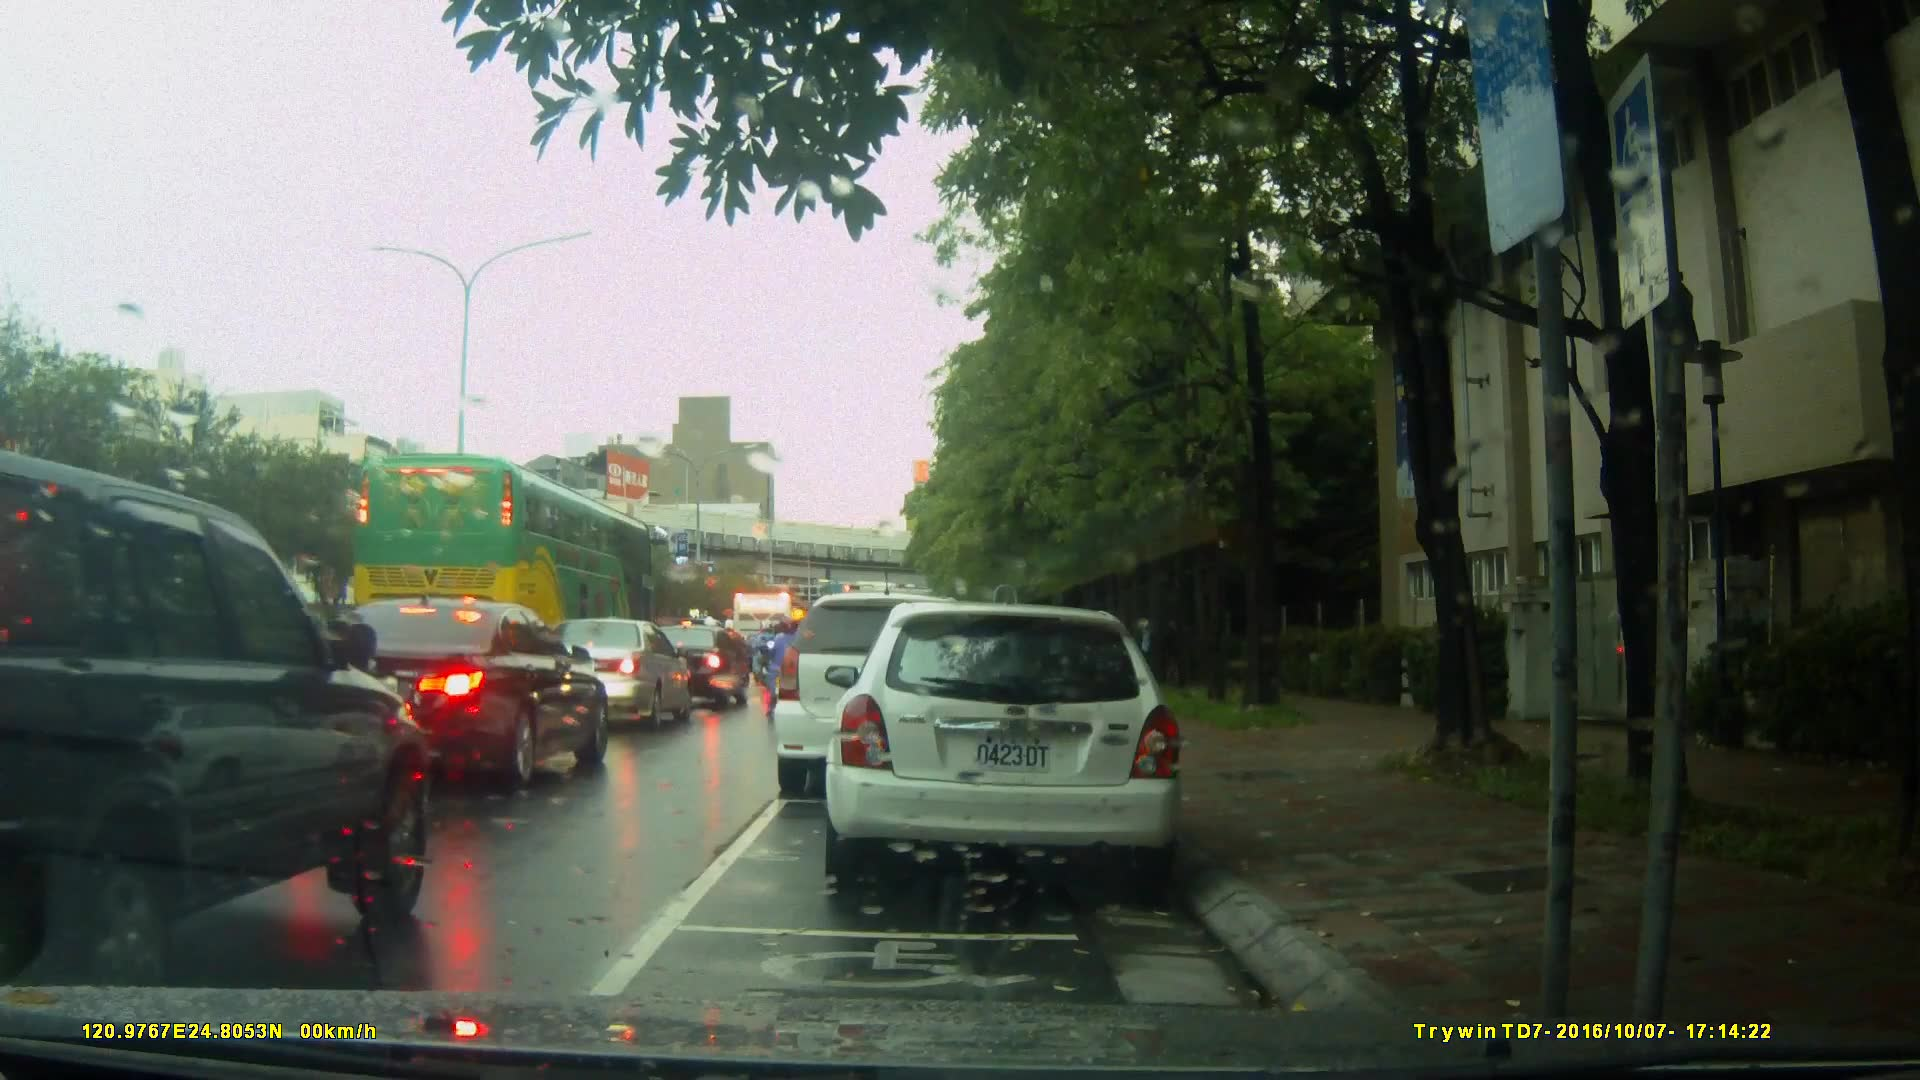rider: (759, 616, 800, 711)
vehicle: (1, 449, 436, 987), (831, 592, 1196, 897), (273, 596, 614, 798), (345, 450, 660, 659), (780, 601, 999, 802), (526, 616, 693, 731), (645, 625, 753, 714)
